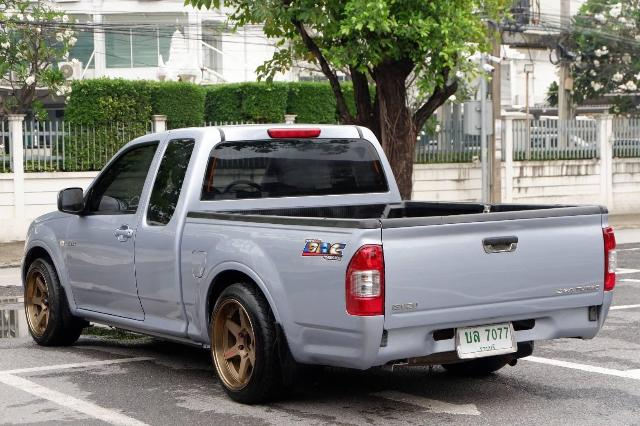pickup-truck: (10, 115, 626, 414)
